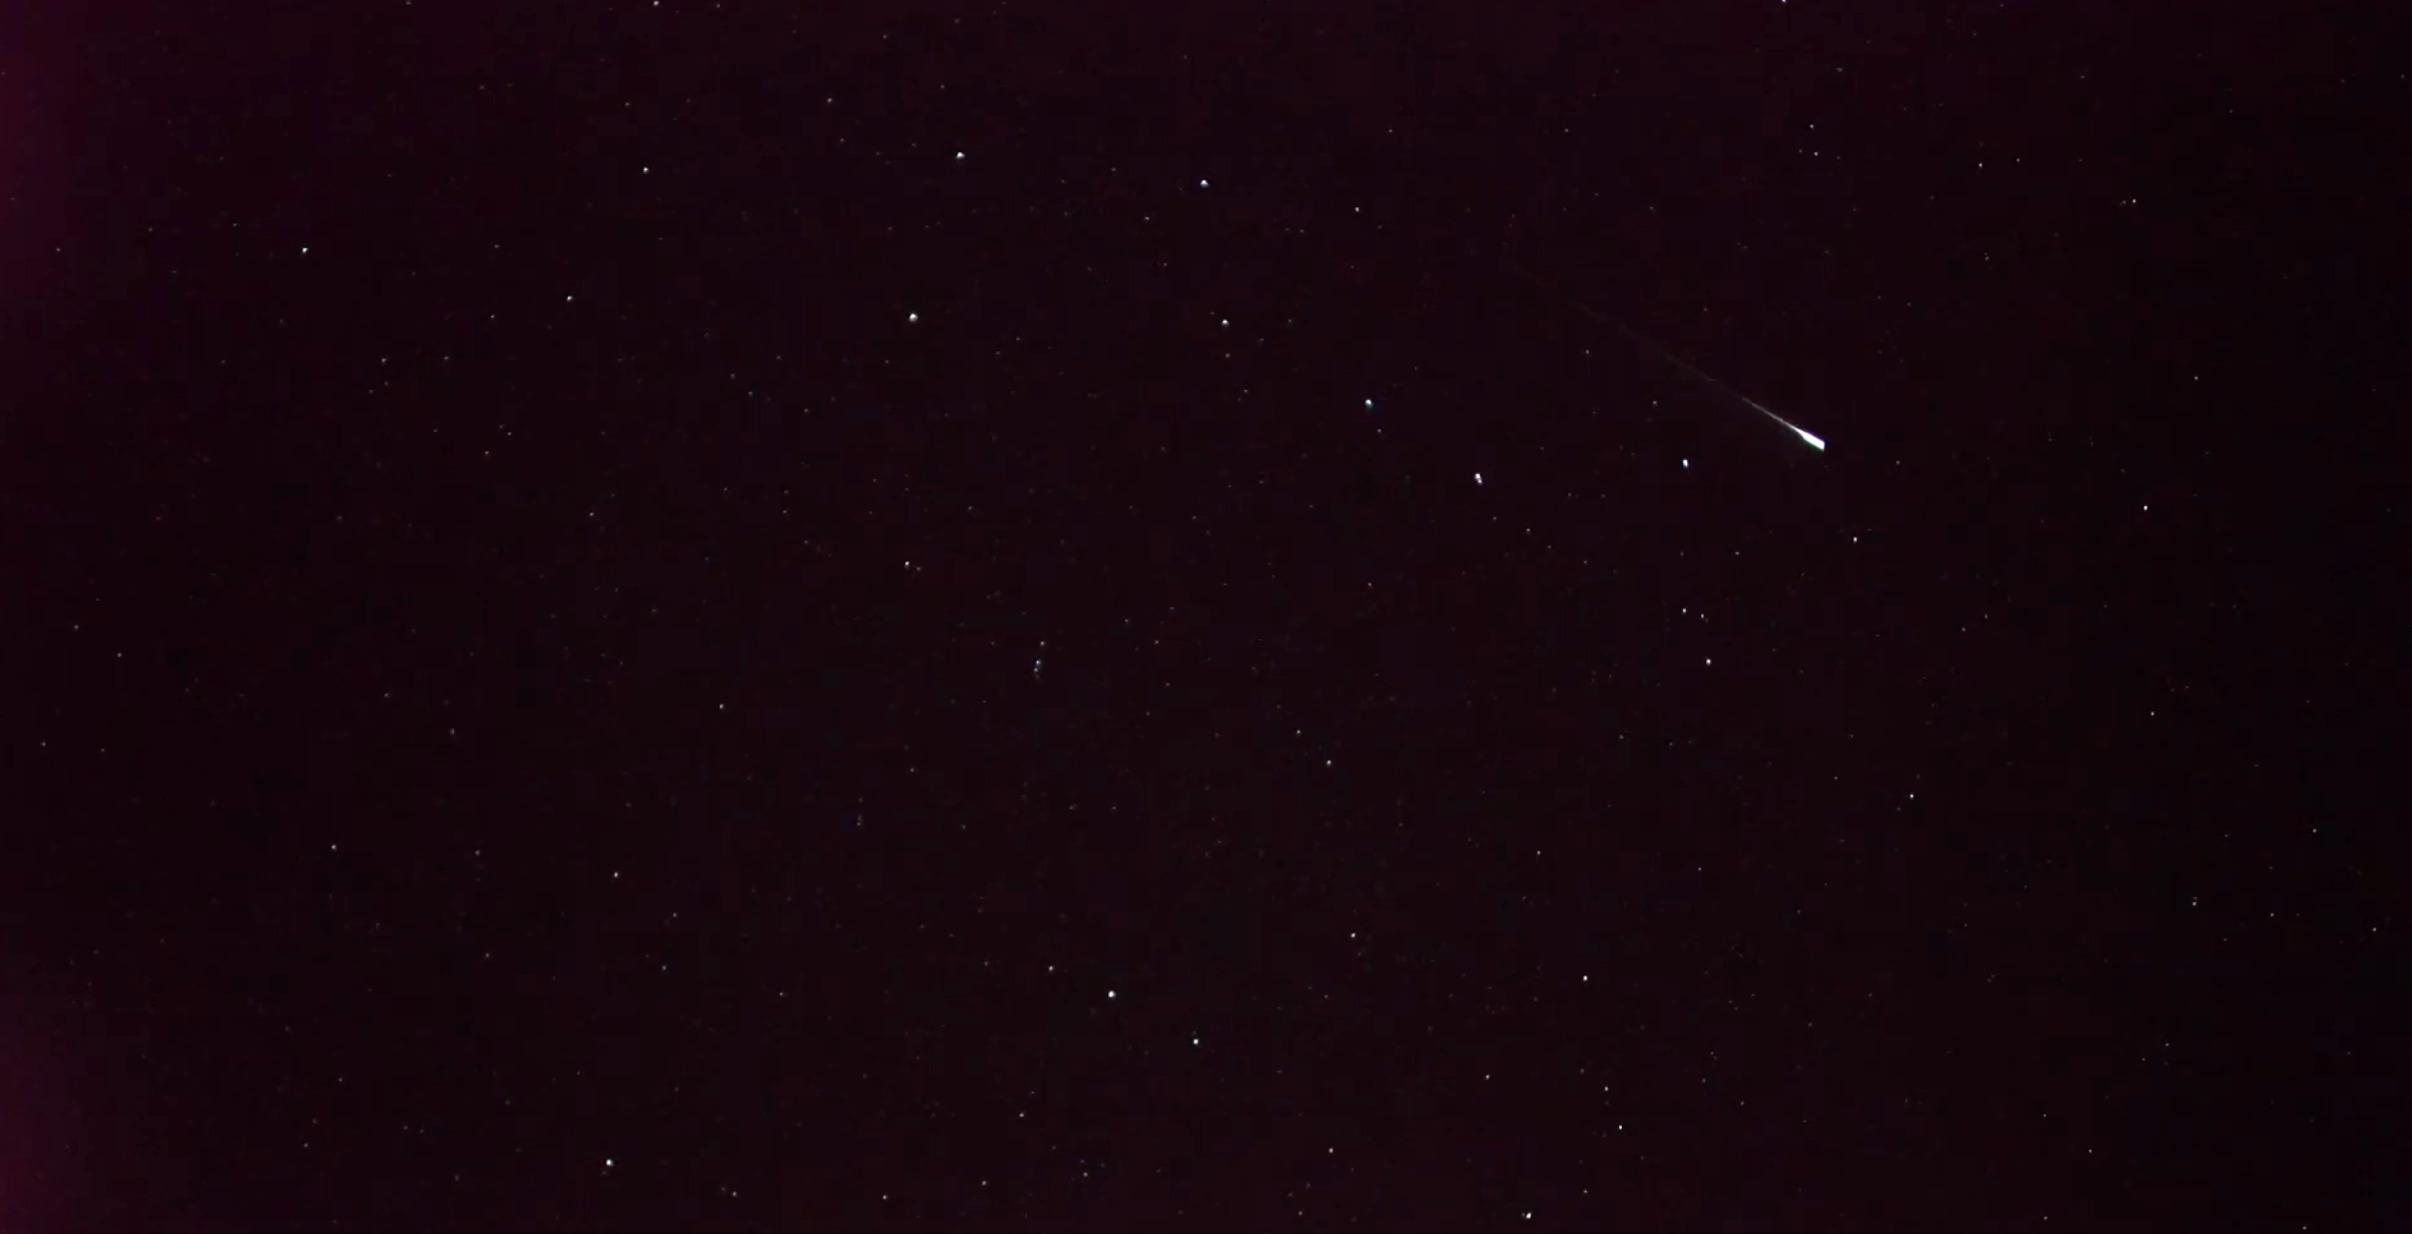meteorite: (1658, 381, 1893, 463)
